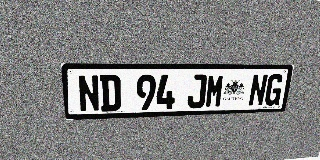4: (156, 74, 176, 110)
9: (136, 74, 156, 110)
D: (99, 75, 121, 112)
G: (263, 74, 285, 106)
J: (187, 74, 207, 109)
M: (205, 74, 225, 108)
N: (77, 75, 100, 112), (248, 74, 269, 106)
